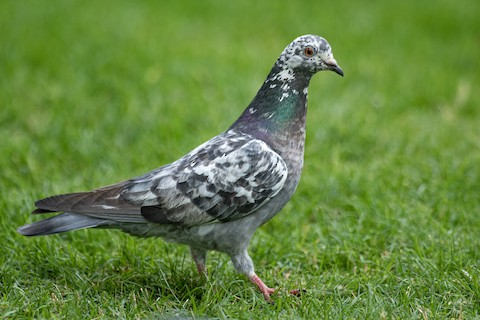pigeon: (16, 29, 345, 302)
